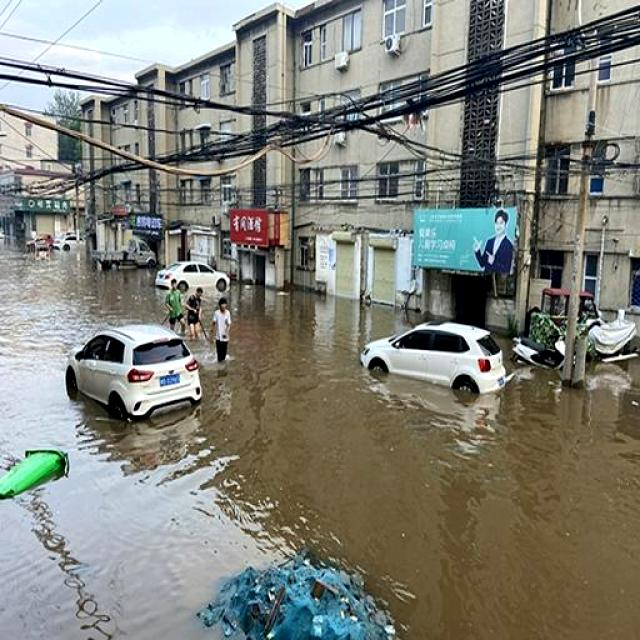civilian: (204, 290, 239, 370), (158, 277, 189, 345), (190, 282, 210, 352), (174, 274, 192, 319)
